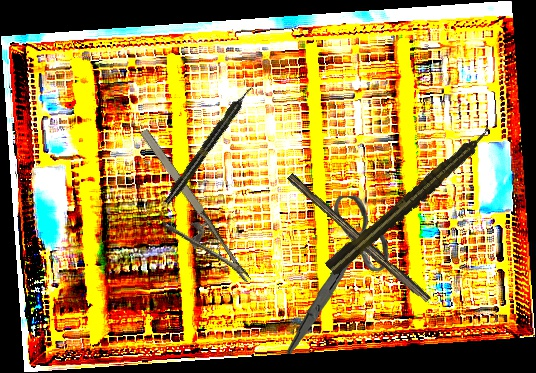Handpiece: (323, 122, 497, 278), (161, 83, 257, 207)
Iris Scissors: (277, 193, 394, 355)
Needle Holder: (114, 125, 252, 304)
Scalpel Handle: (283, 172, 433, 306)
